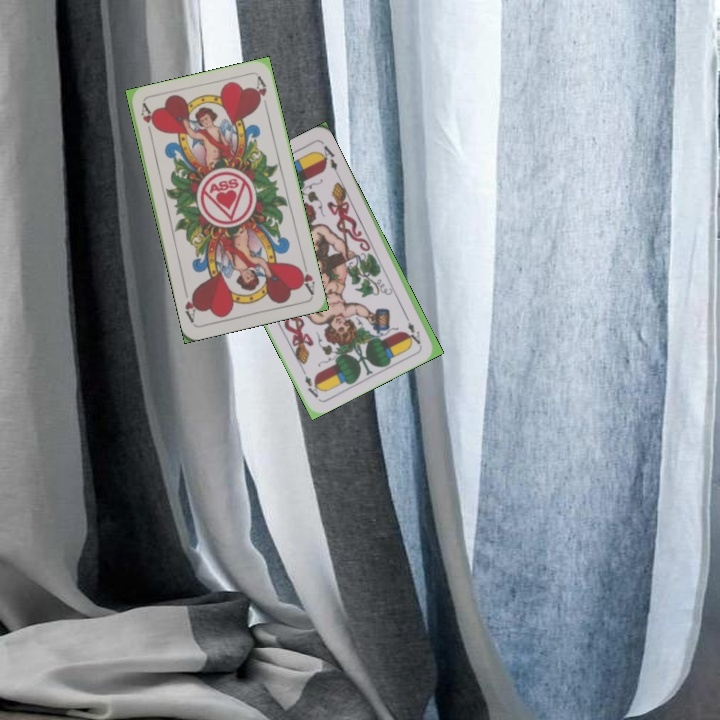EA: (400, 309, 423, 347)
HA: (294, 257, 317, 297), (137, 101, 157, 141)
